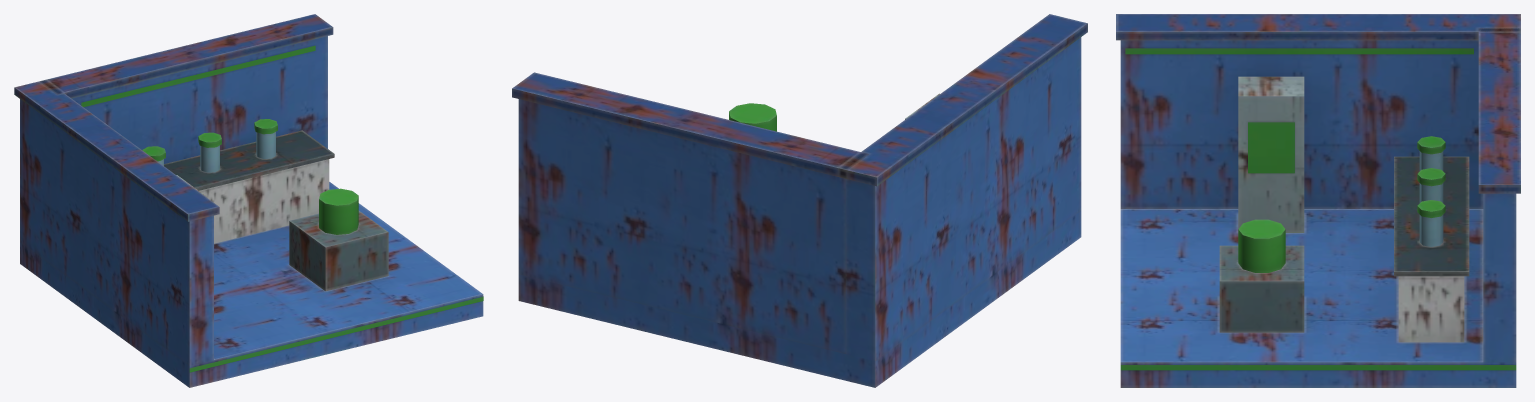
File: biology_lab.glb
The picture shows the model from 3 angles, left to right: view 1: azimuth 30°, elevation 25°; view 2: azimuth 150°, elevation 25°; view 3: azimuth 270°, elevation 25°; orthographic projection. The views are drawn at different scales.
Visible parts, largest first — view 1: te_biology_lab; view 2: te_biology_lab; view 3: te_biology_lab.
Boxes of the visible parts, x1,y1,x2,y2 form: te_biology_lab: (14,14,483,387); te_biology_lab: (512,14,1087,387); te_biology_lab: (1116,14,1520,387).
Bounding box in the file's own units: 0.86 × 0.48 × 0.86.
1 material, 1 textured.
